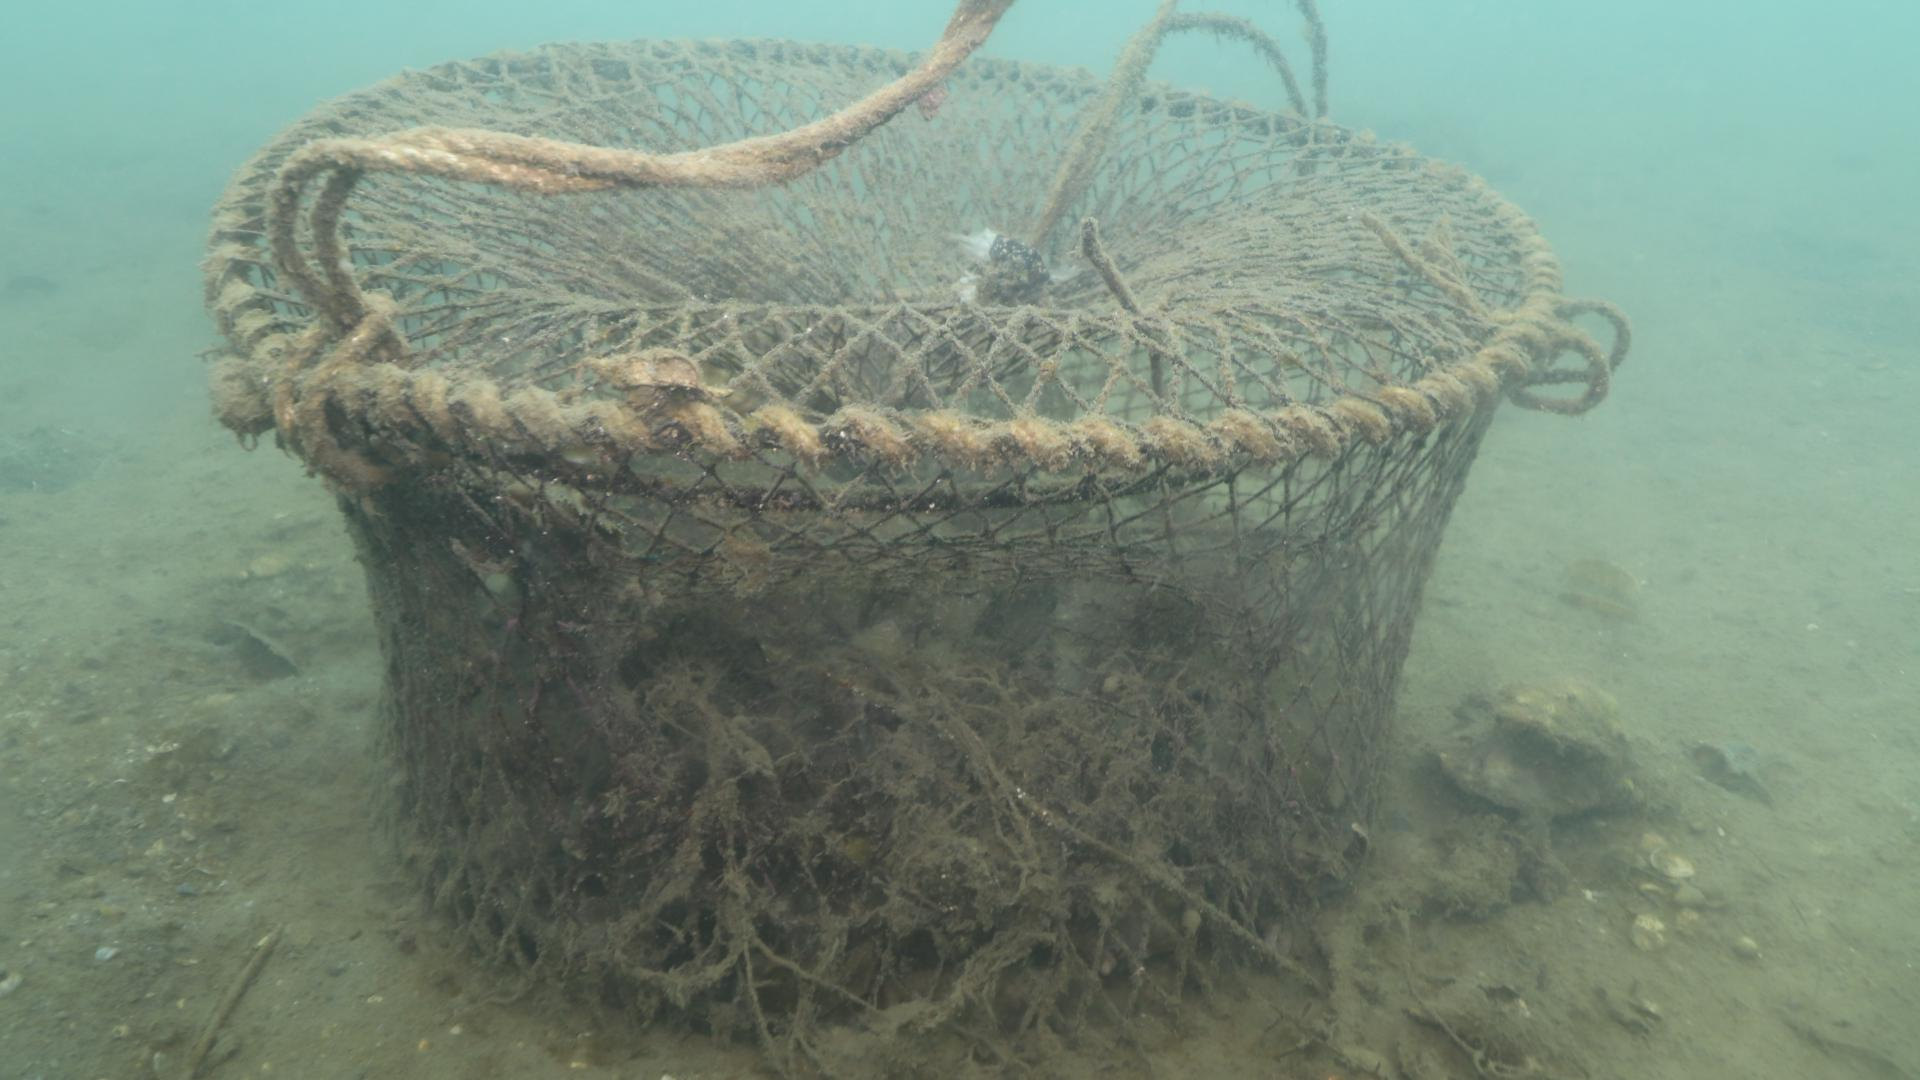circular fish trap: (203, 37, 1567, 1077)
